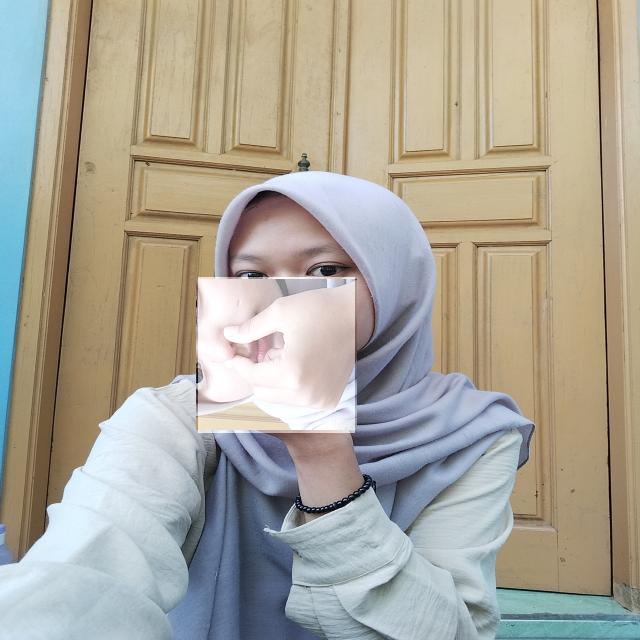bau: (198, 277, 355, 433)
